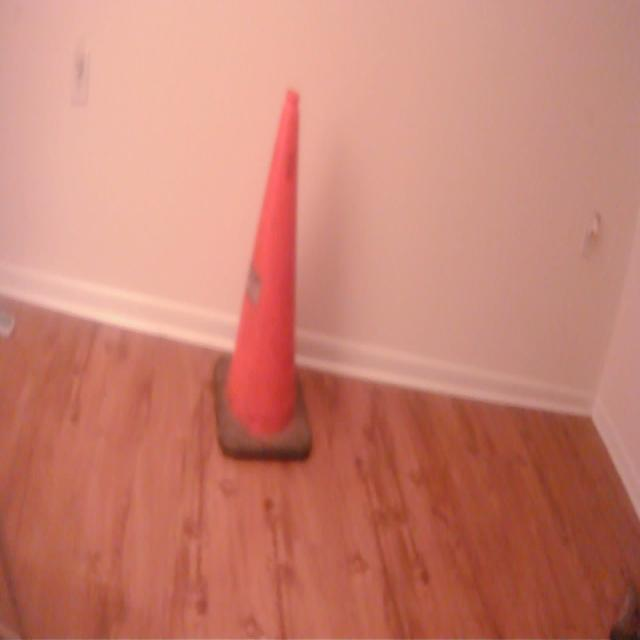traffic cone: (210, 79, 318, 470)
